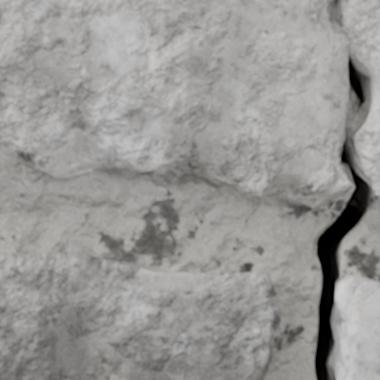brick: (0, 251, 279, 379), (332, 276, 379, 379)
broken_brick: (0, 0, 352, 207), (345, 0, 379, 195)
crack: (311, 0, 377, 379)
